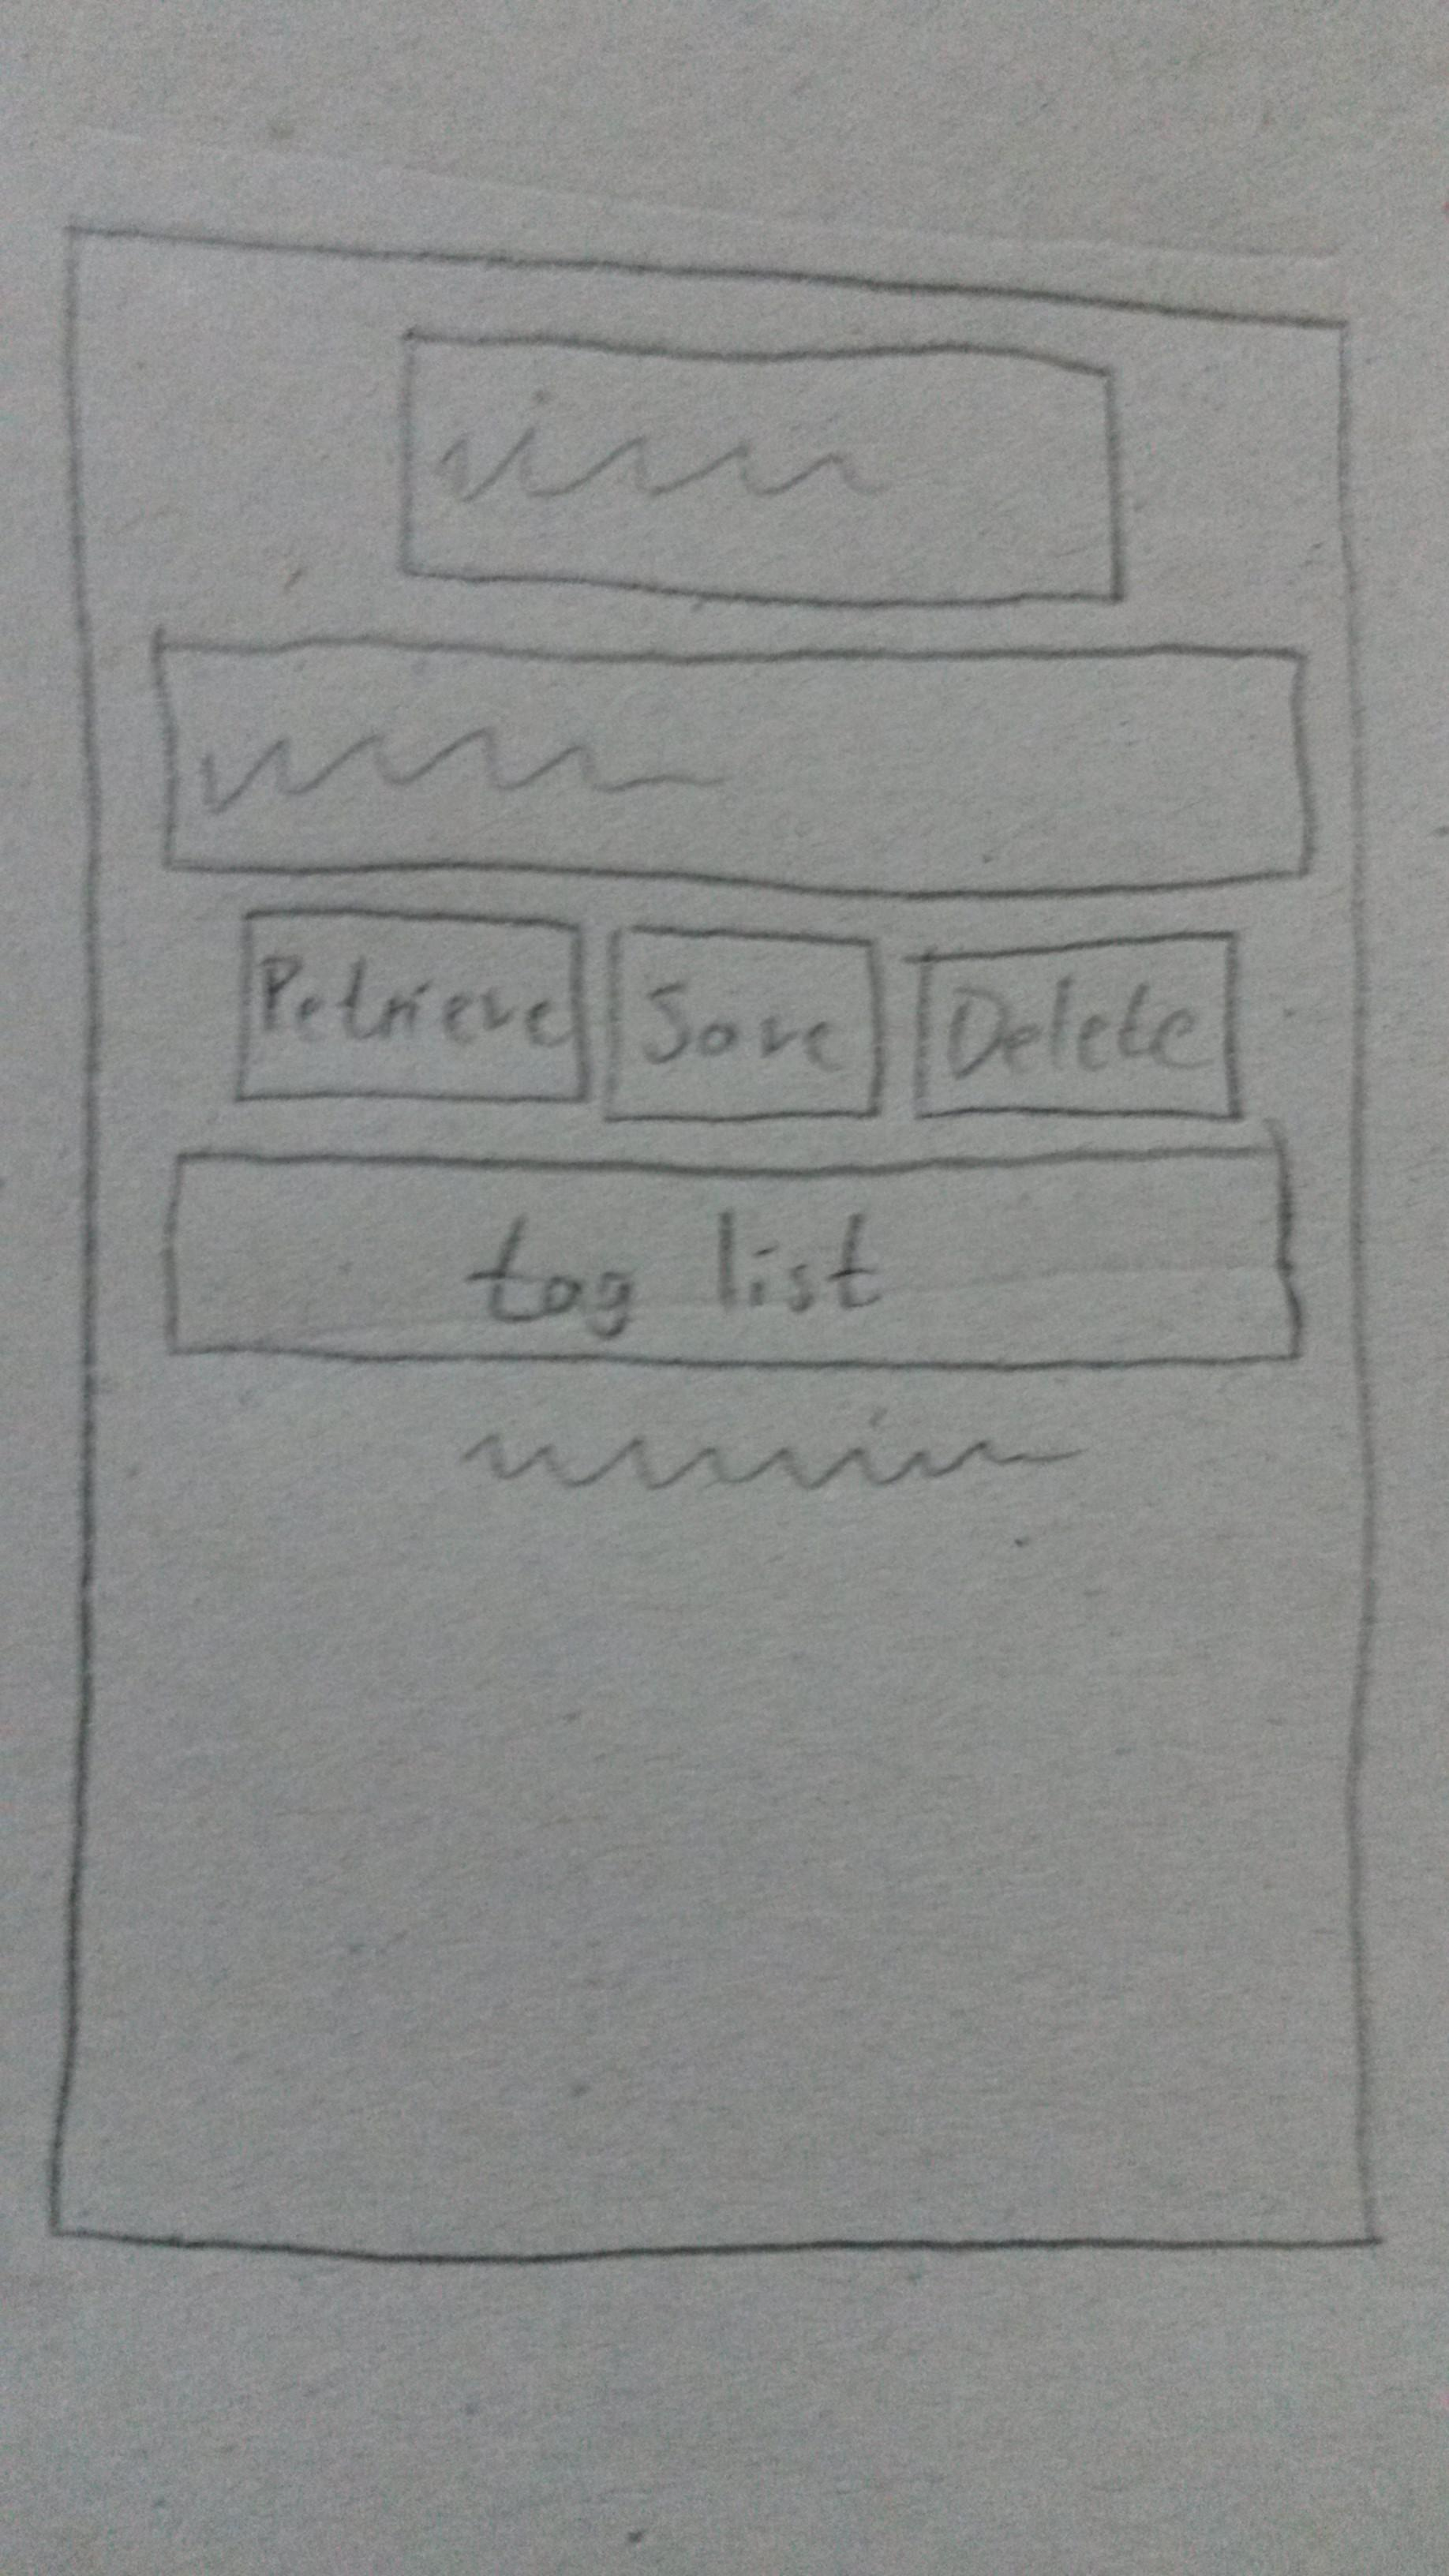Button: (156, 1143, 1307, 1371), (230, 911, 589, 1104), (913, 929, 1242, 1122), (602, 922, 888, 1125)
Label: (458, 1428, 1086, 1491)
Screen: (41, 228, 1378, 2268)
TextBox: (152, 637, 1313, 901), (396, 329, 1122, 607)
